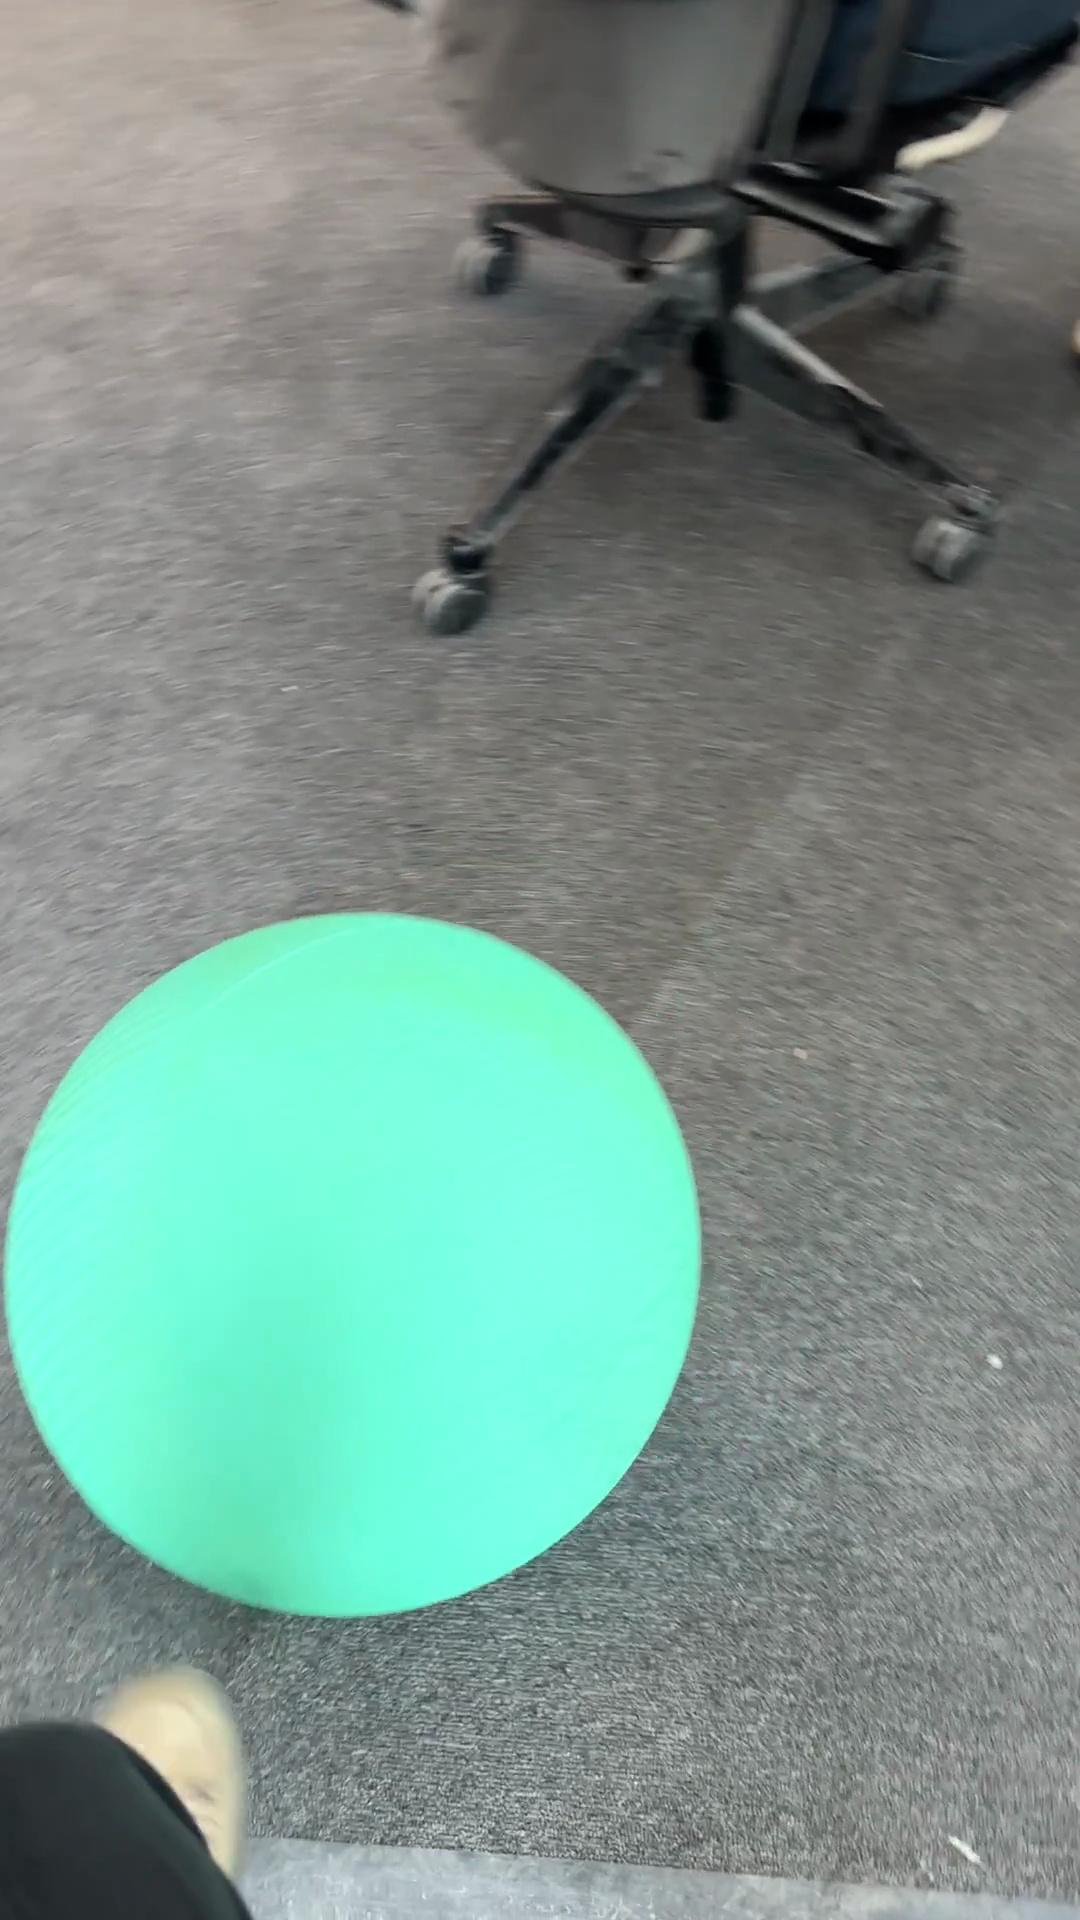ALGAE: (3, 906, 704, 1619)
